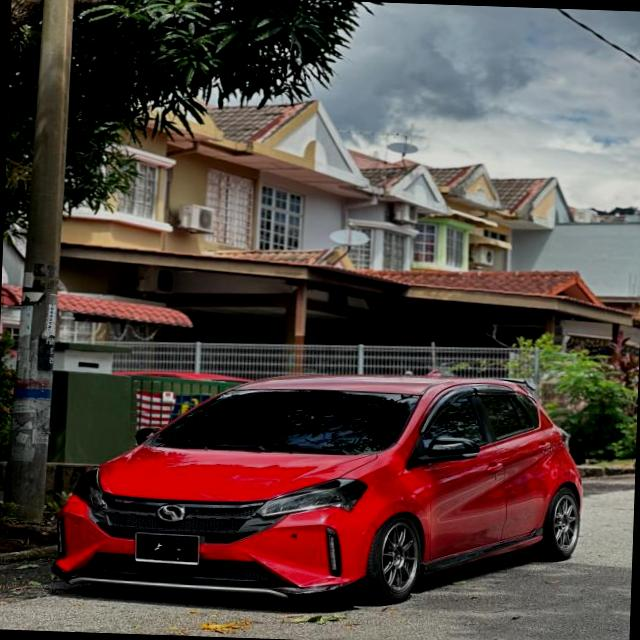PeroduaMyvi: (49, 357, 588, 612)
